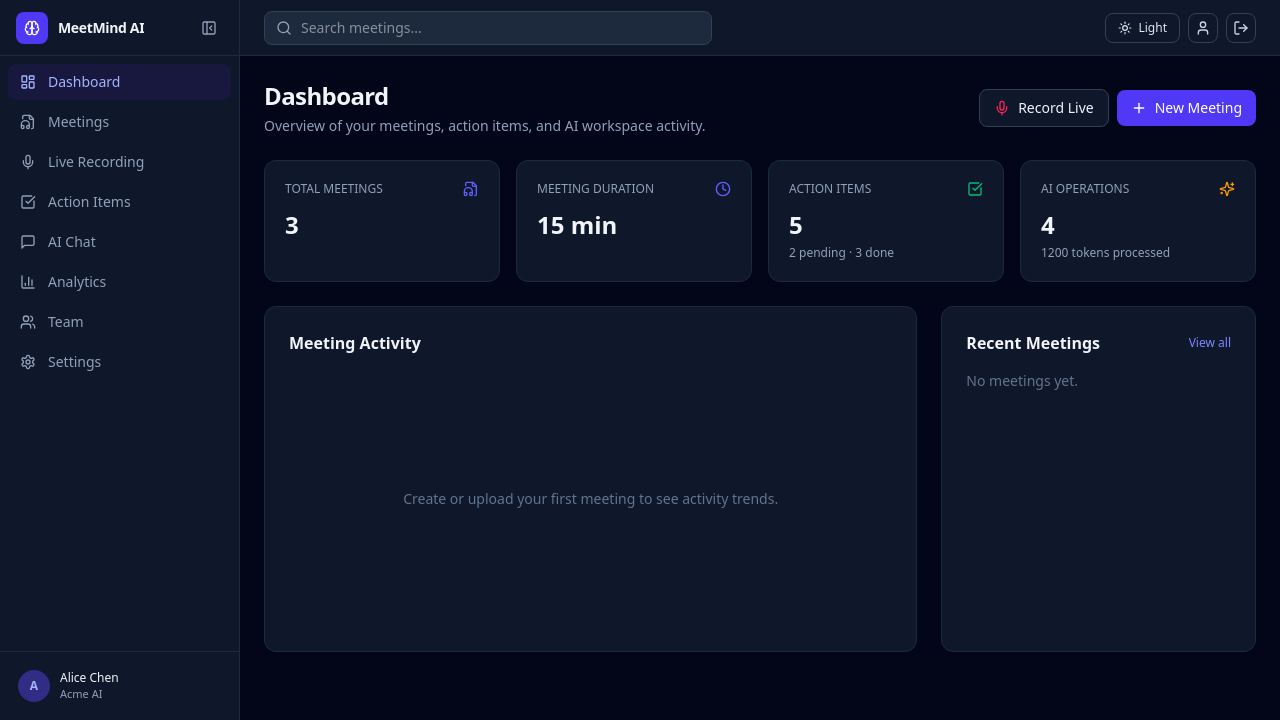
App › renders authenticated dashboard and toggles theme
This screenshot has width=1280, height=720.
Expected: the text "TOTAL MEETINGS" is shown, [285,181,383,197]
Expected: the text "3" is shown, [285,208,299,241]
Click the button with aria-label "switch to light theme" at (1143, 28), box [1106,12,1180,42]
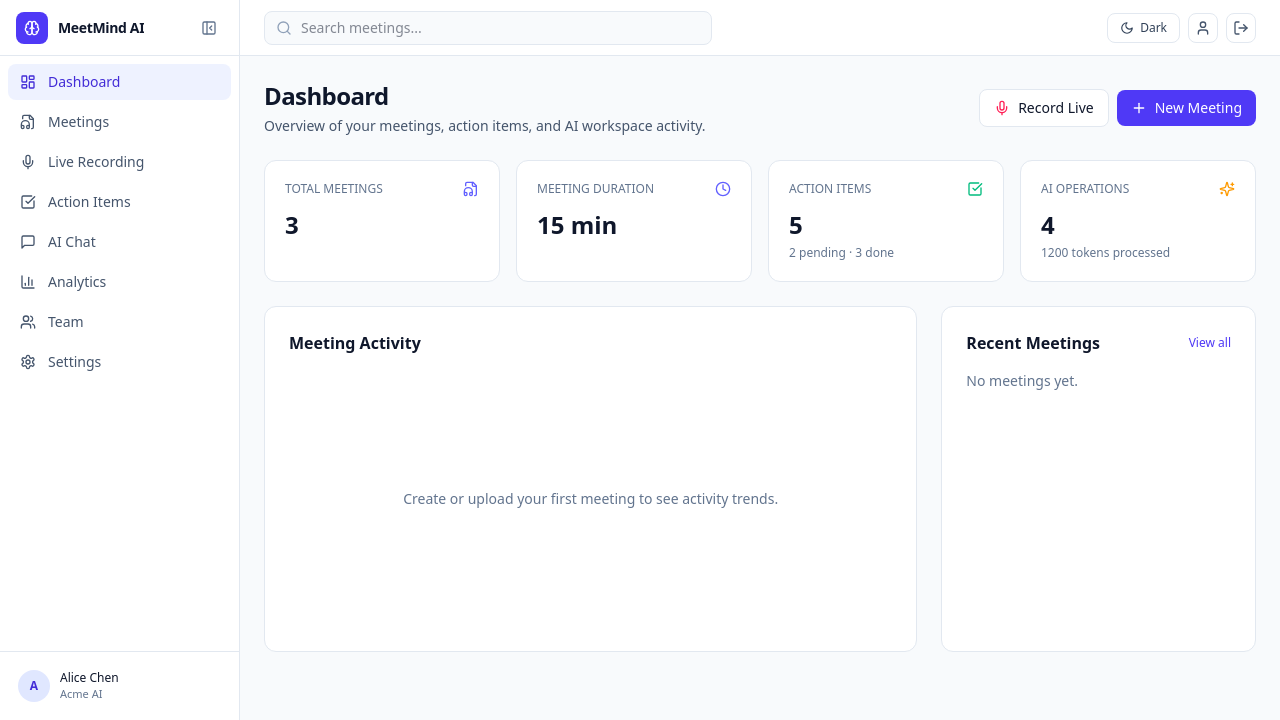
Expected: the button with aria-label "switch to dark theme" is shown, [1107,12,1180,42]
